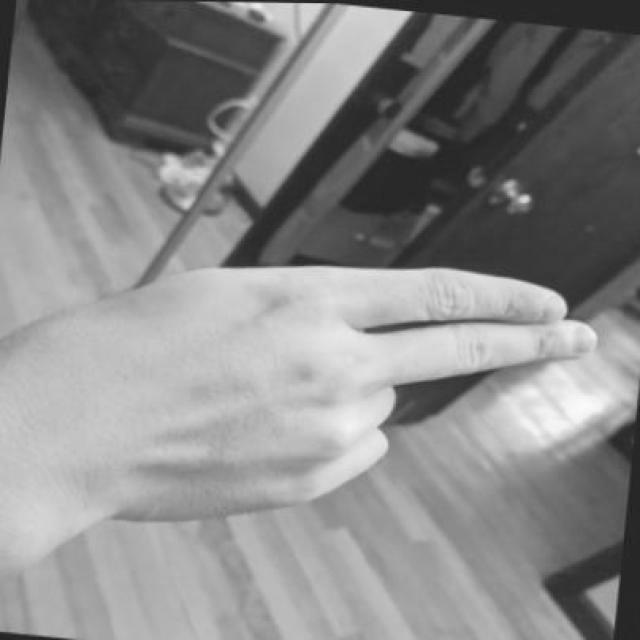H: (22, 221, 612, 579)
